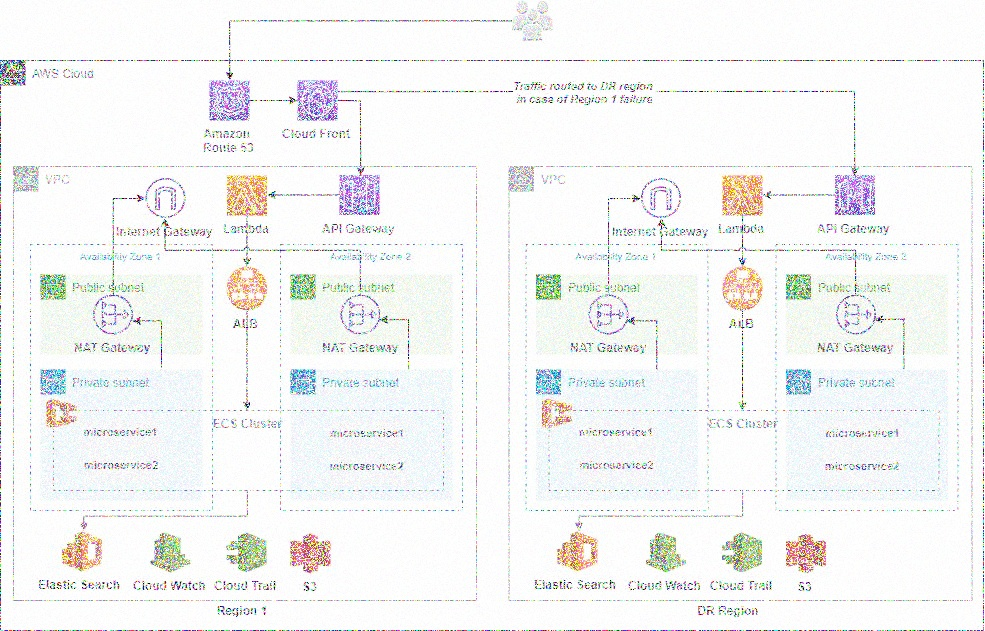ALB: (224, 266, 273, 311), (719, 264, 766, 310)
API-Gateway: (835, 173, 876, 217), (339, 173, 380, 216)
Cloud Trail: (716, 527, 770, 575), (222, 528, 275, 576)
Cloud Watch: (145, 523, 195, 576), (643, 526, 690, 574)
Cloudfront: (298, 81, 339, 122)
Elastic Container Service: (536, 397, 578, 432), (41, 396, 81, 431)
Elastic Search: (549, 528, 610, 575), (55, 532, 110, 577)
Internet Gateway: (640, 173, 683, 220), (145, 173, 188, 219)
Lambda: (227, 174, 268, 217), (723, 173, 763, 217)
NAT Gateway: (89, 291, 134, 336), (834, 293, 877, 336), (586, 293, 629, 336), (339, 295, 381, 336)
Private Subnet: (288, 366, 316, 396), (535, 367, 562, 396), (39, 369, 66, 396), (784, 370, 814, 394)
Public Subnet: (534, 271, 565, 302), (37, 272, 69, 302), (287, 273, 317, 301), (787, 273, 813, 300)
Route53: (209, 78, 249, 121)
S3: (284, 523, 337, 576), (780, 528, 834, 576)
Users: (508, 0, 557, 44)
aws: (0, 59, 28, 87)
